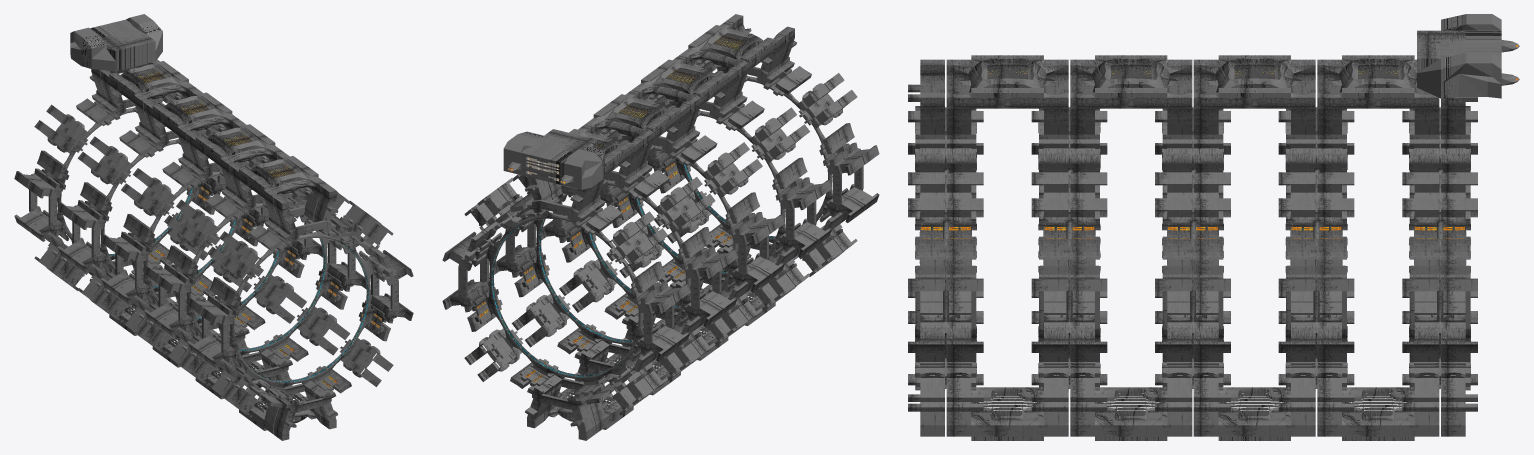
The model's file is portal.glb.
3 renders of one model, left to right at view 1: azimuth 30°, elevation 25°; view 2: azimuth 150°, elevation 25°; view 3: azimuth 270°, elevation 25°, orthographic. The views are drawn at different scales.
Parts seen in each view (by area): view 1: MaterialFBXASC032FBXASC0352142150880 (×4), LIGHTKRAFTFBXASC032GRAVITONFBXASC032, ORDNUNGSKRAFTFBXASC032Graviton; view 2: MaterialFBXASC032FBXASC0352142150880 (×4), LIGHTKRAFTFBXASC032GRAVITONFBXASC032, ORDNUNGSKRAFTFBXASC032Graviton; view 3: MaterialFBXASC032FBXASC0352142150880 (×4), SG-LightW, ORDNUNGSKRAFTFBXASC032Graviton.
Boxes of the visible parts, bbox=[...] form: MaterialFBXASC032FBXASC0352142150880 (×4): bbox=[14, 14, 413, 440]; LIGHTKRAFTFBXASC032GRAVITONFBXASC032: bbox=[109, 188, 368, 382]; ORDNUNGSKRAFTFBXASC032Graviton: bbox=[149, 187, 381, 386]; MaterialFBXASC032FBXASC0352142150880 (×4): bbox=[442, 14, 879, 440]; LIGHTKRAFTFBXASC032GRAVITONFBXASC032: bbox=[491, 164, 817, 376]; ORDNUNGSKRAFTFBXASC032Graviton: bbox=[477, 163, 731, 381]; MaterialFBXASC032FBXASC0352142150880 (×4): bbox=[908, 14, 1519, 440]; SG-LightW: bbox=[930, 375, 1455, 410]; ORDNUNGSKRAFTFBXASC032Graviton: bbox=[921, 45, 1517, 238].
Bounding box in the file's own units: 133 × 174 × 248.
Materials: 6 (4 with a texture image).
